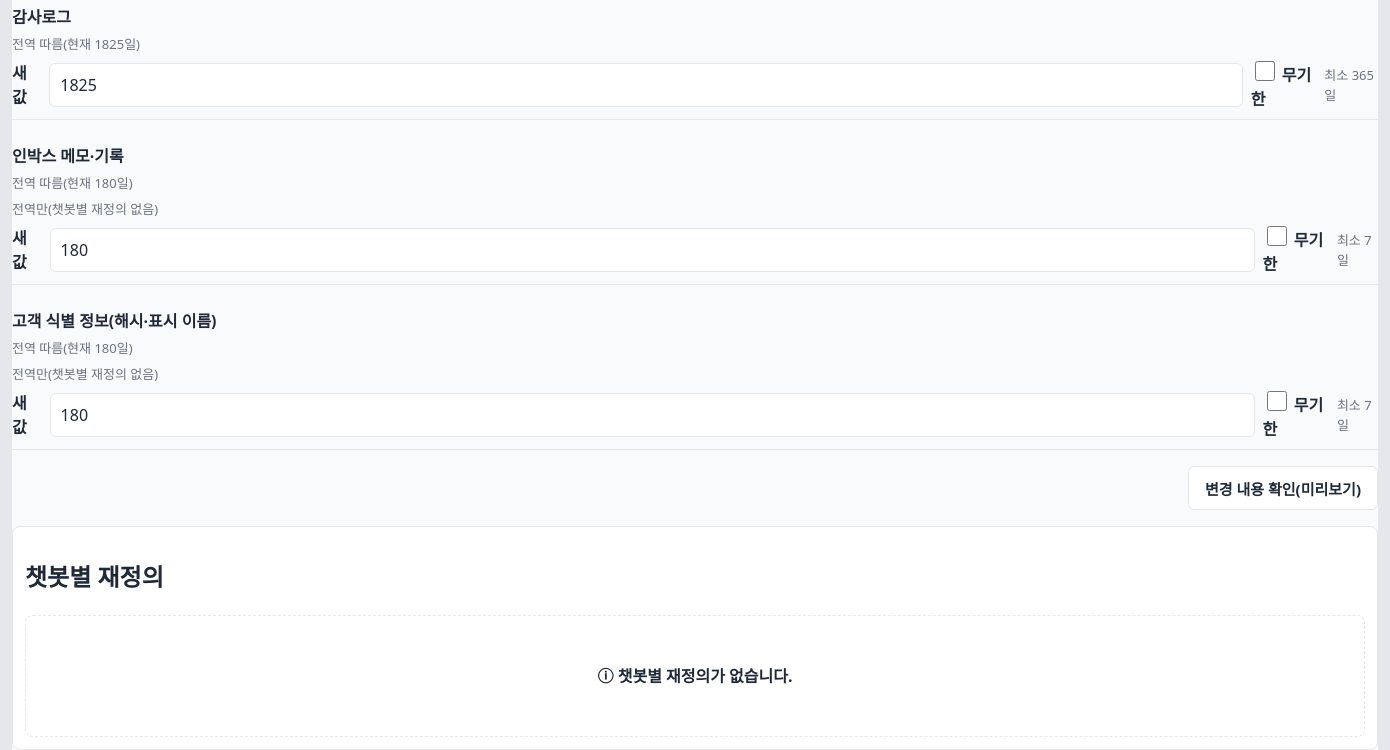
Scenario: DataGovernanceRetentionPage › RETENTION_OUT_OF_RANGE 오류는 해당 종류 입력 아래 인라인 오류로 표시한다
(page scrolled)
Click the button "변경 내용 확인(미리보기)".
click(1283, 488)  # box [1188,466,1378,510]
(page scrolled)
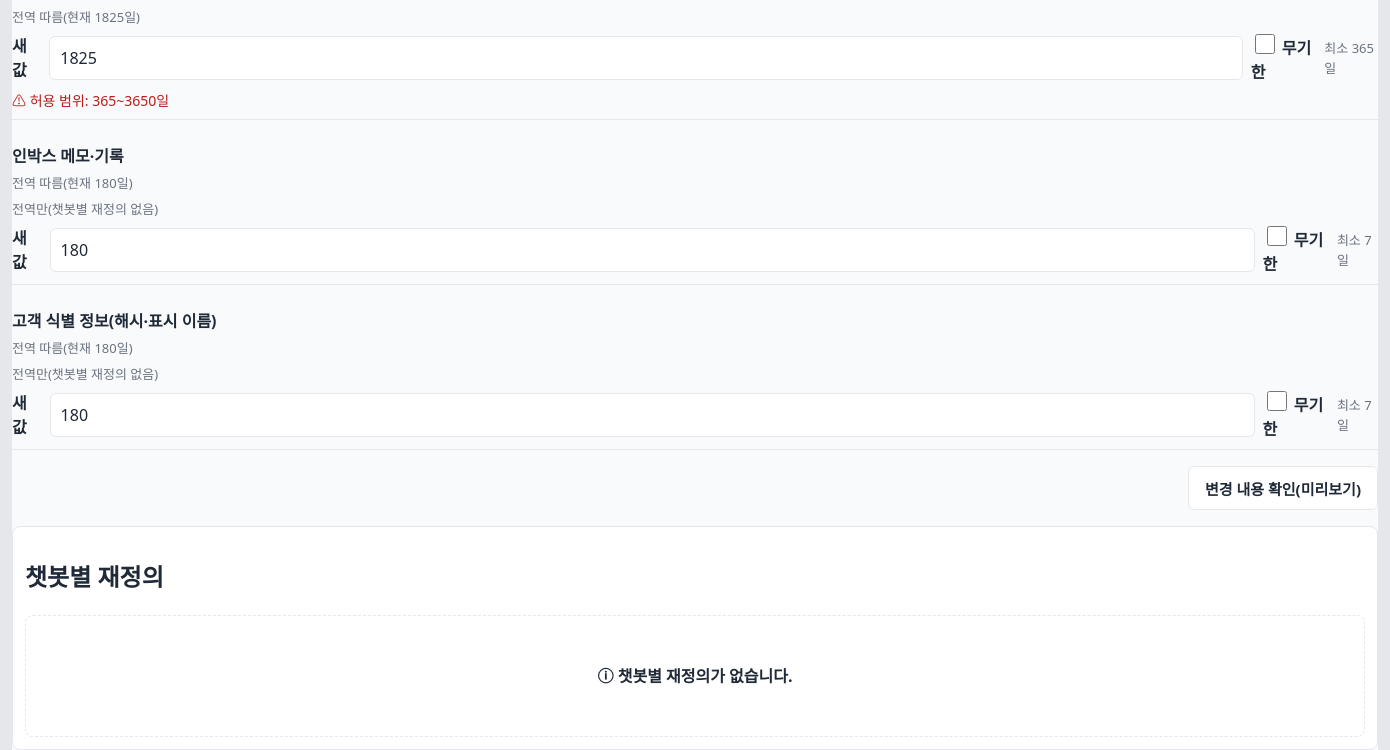
Expected: the text "허용 범위: 365~3650일" is shown, [30,91,169,110]
